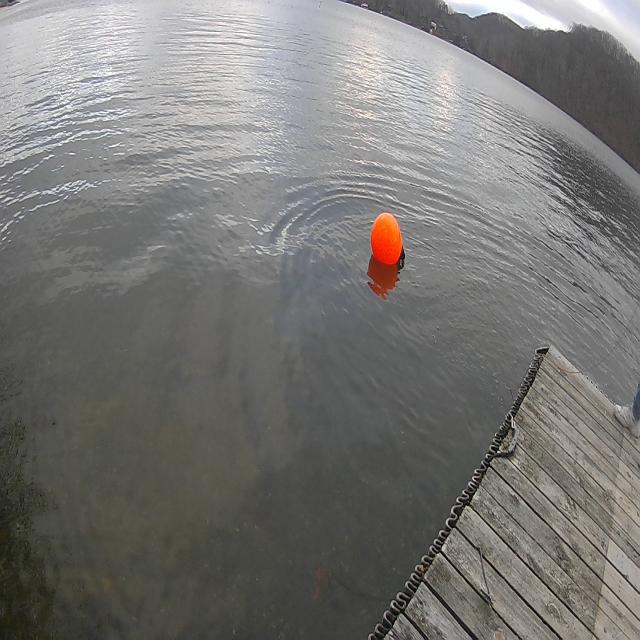Buoy: (368, 207, 409, 278)
